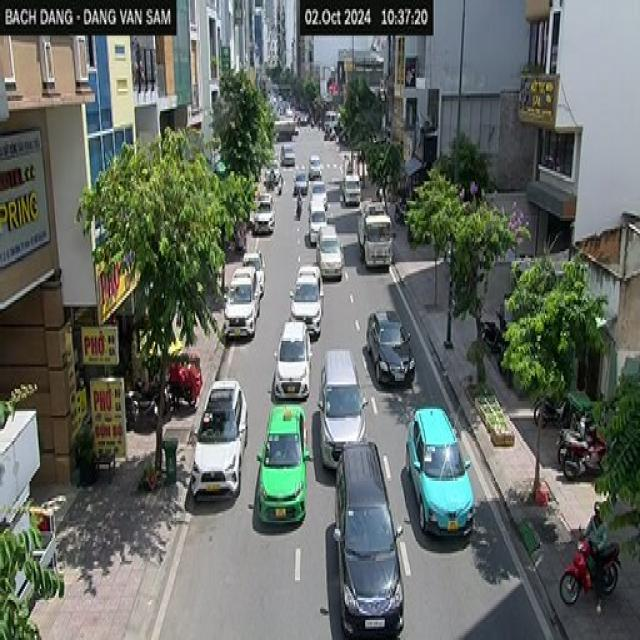car: (333, 440, 405, 638), (405, 404, 474, 538), (255, 402, 313, 527), (190, 378, 248, 500), (316, 347, 368, 471), (366, 309, 415, 384), (272, 318, 312, 400)
motorcycle: (559, 524, 620, 604)
